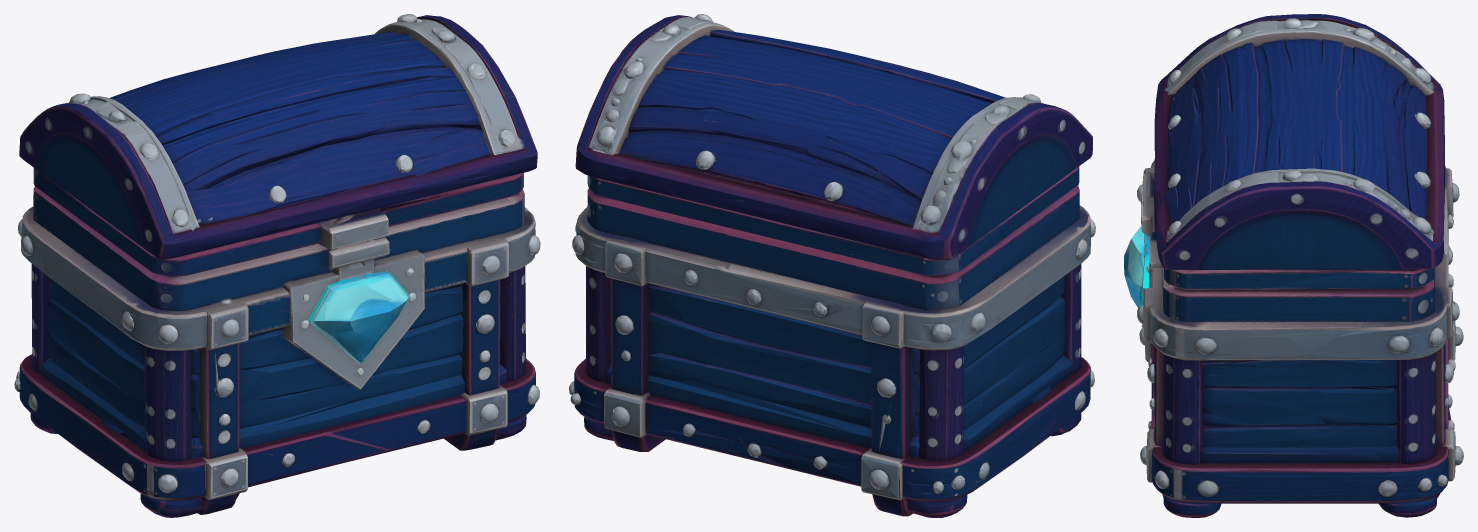
The model's file is rare_chest_static.glb.
3 views of the same model, side by side, from view 1: azimuth 30°, elevation 25°; view 2: azimuth 150°, elevation 25°; view 3: azimuth 270°, elevation 25° (orthographic). The views are drawn at different scales.
Bounding box in the file's own units: 1.9 × 1.61 × 1.46.
1 material, 1 textured.
